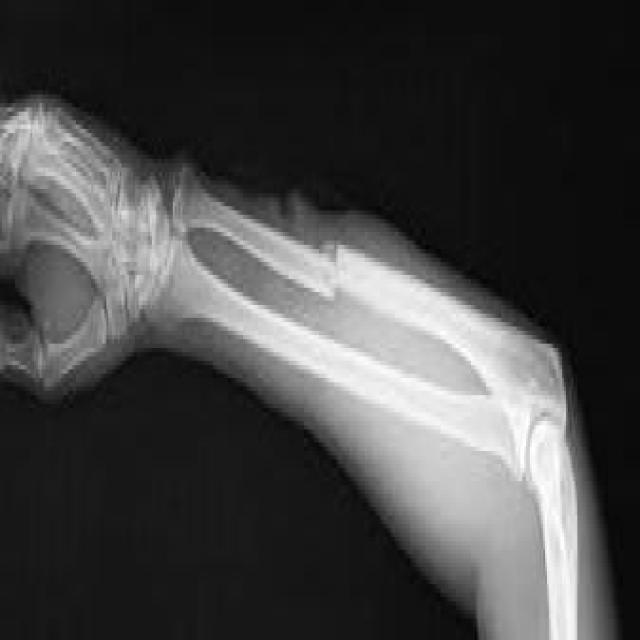bone: (320, 232, 352, 310)
